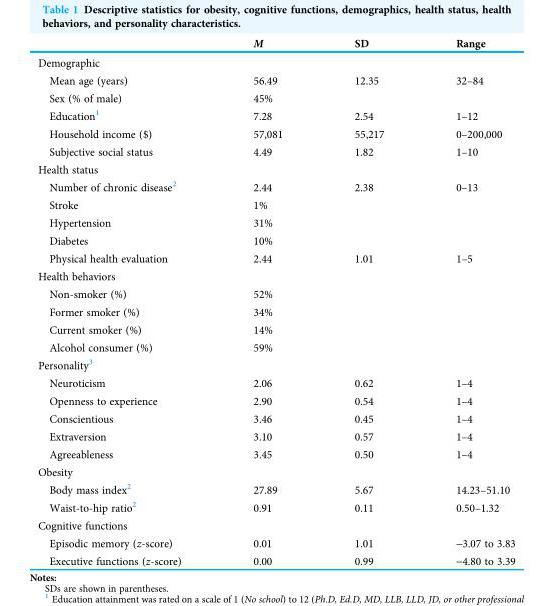table: (37, 36, 514, 567)
table column: (37, 36, 216, 567), (317, 36, 419, 567), (216, 36, 317, 567), (419, 36, 514, 567)
table column header: (37, 36, 514, 52)
table projected row header: (37, 52, 514, 71), (37, 266, 514, 284), (37, 355, 514, 373), (37, 160, 514, 177), (37, 462, 514, 479), (37, 516, 514, 533)
table row: (37, 52, 514, 71), (37, 105, 514, 124), (37, 497, 514, 516), (37, 124, 514, 142), (37, 142, 514, 160), (37, 177, 514, 195), (37, 195, 514, 213), (37, 213, 514, 231), (37, 231, 514, 249), (37, 266, 514, 284), (37, 284, 514, 302), (37, 302, 514, 320), (37, 320, 514, 338), (37, 355, 514, 373), (37, 373, 514, 391), (37, 391, 514, 409), (37, 409, 514, 427), (37, 444, 514, 462), (37, 479, 514, 497), (37, 533, 514, 551), (37, 71, 514, 88), (37, 88, 514, 105), (37, 160, 514, 177), (37, 249, 514, 266), (37, 338, 514, 355), (37, 427, 514, 444), (37, 462, 514, 479), (37, 516, 514, 533), (37, 36, 514, 52), (37, 551, 514, 567)
